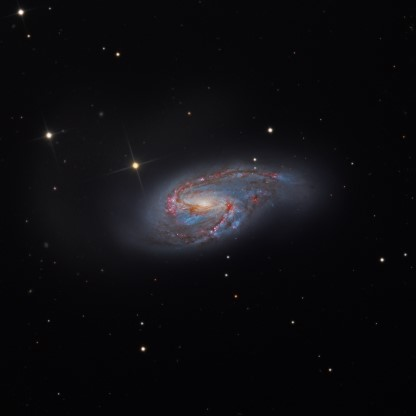Messier 66: (103, 133, 330, 271)
